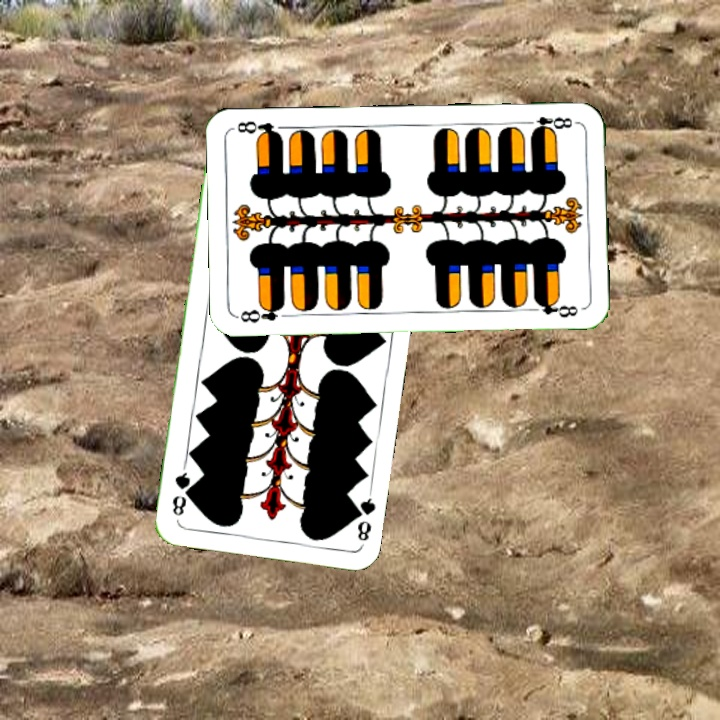E8: (520, 113, 580, 136), (234, 300, 287, 326)
G8: (348, 488, 378, 547)
